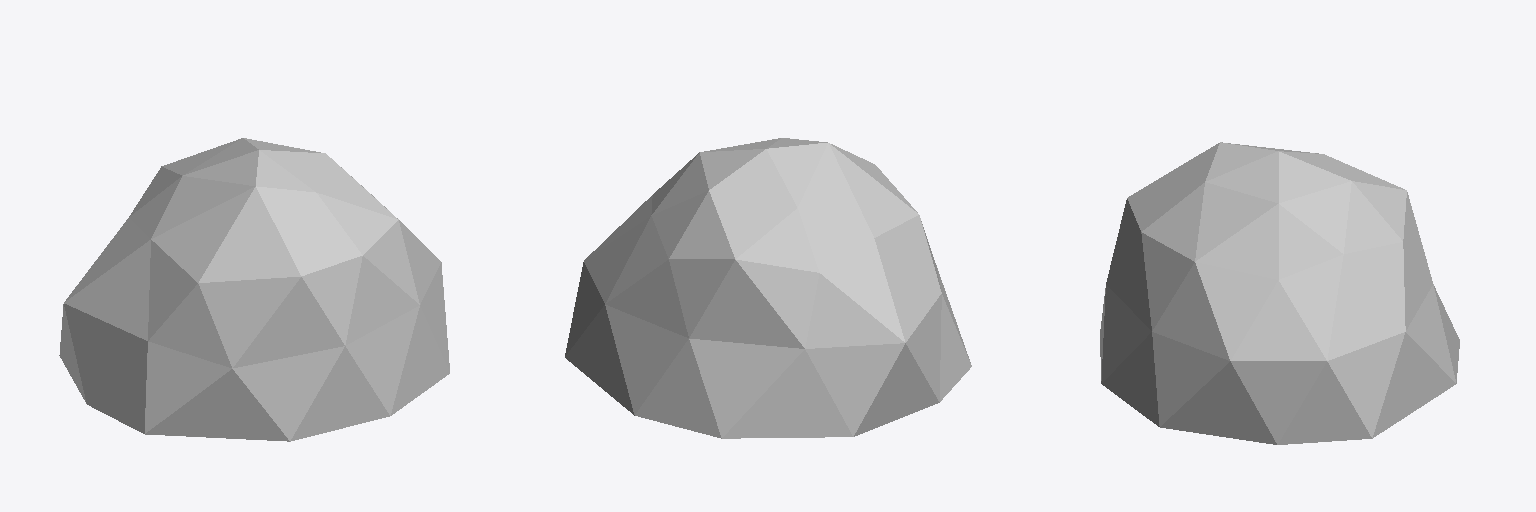
The model's file is Bush1.obj.
3 renders of one model, left to right at view 1: azimuth 30°, elevation 25°; view 2: azimuth 150°, elevation 25°; view 3: azimuth 270°, elevation 25°, orthographic.
Parts seen in each view (by area): view 1: Peter_sBush_Test_12_8_17:Mesh; view 2: Peter_sBush_Test_12_8_17:Mesh; view 3: Peter_sBush_Test_12_8_17:Mesh.
Boxes of the visible parts, x1=… form: Peter_sBush_Test_12_8_17:Mesh: x1=59, y1=138, x2=449, y2=441; Peter_sBush_Test_12_8_17:Mesh: x1=565, y1=138, x2=971, y2=438; Peter_sBush_Test_12_8_17:Mesh: x1=1100, y1=142, x2=1459, y2=444.
Bounding box in the file's own units: 1 × 0.5973 × 0.9195.